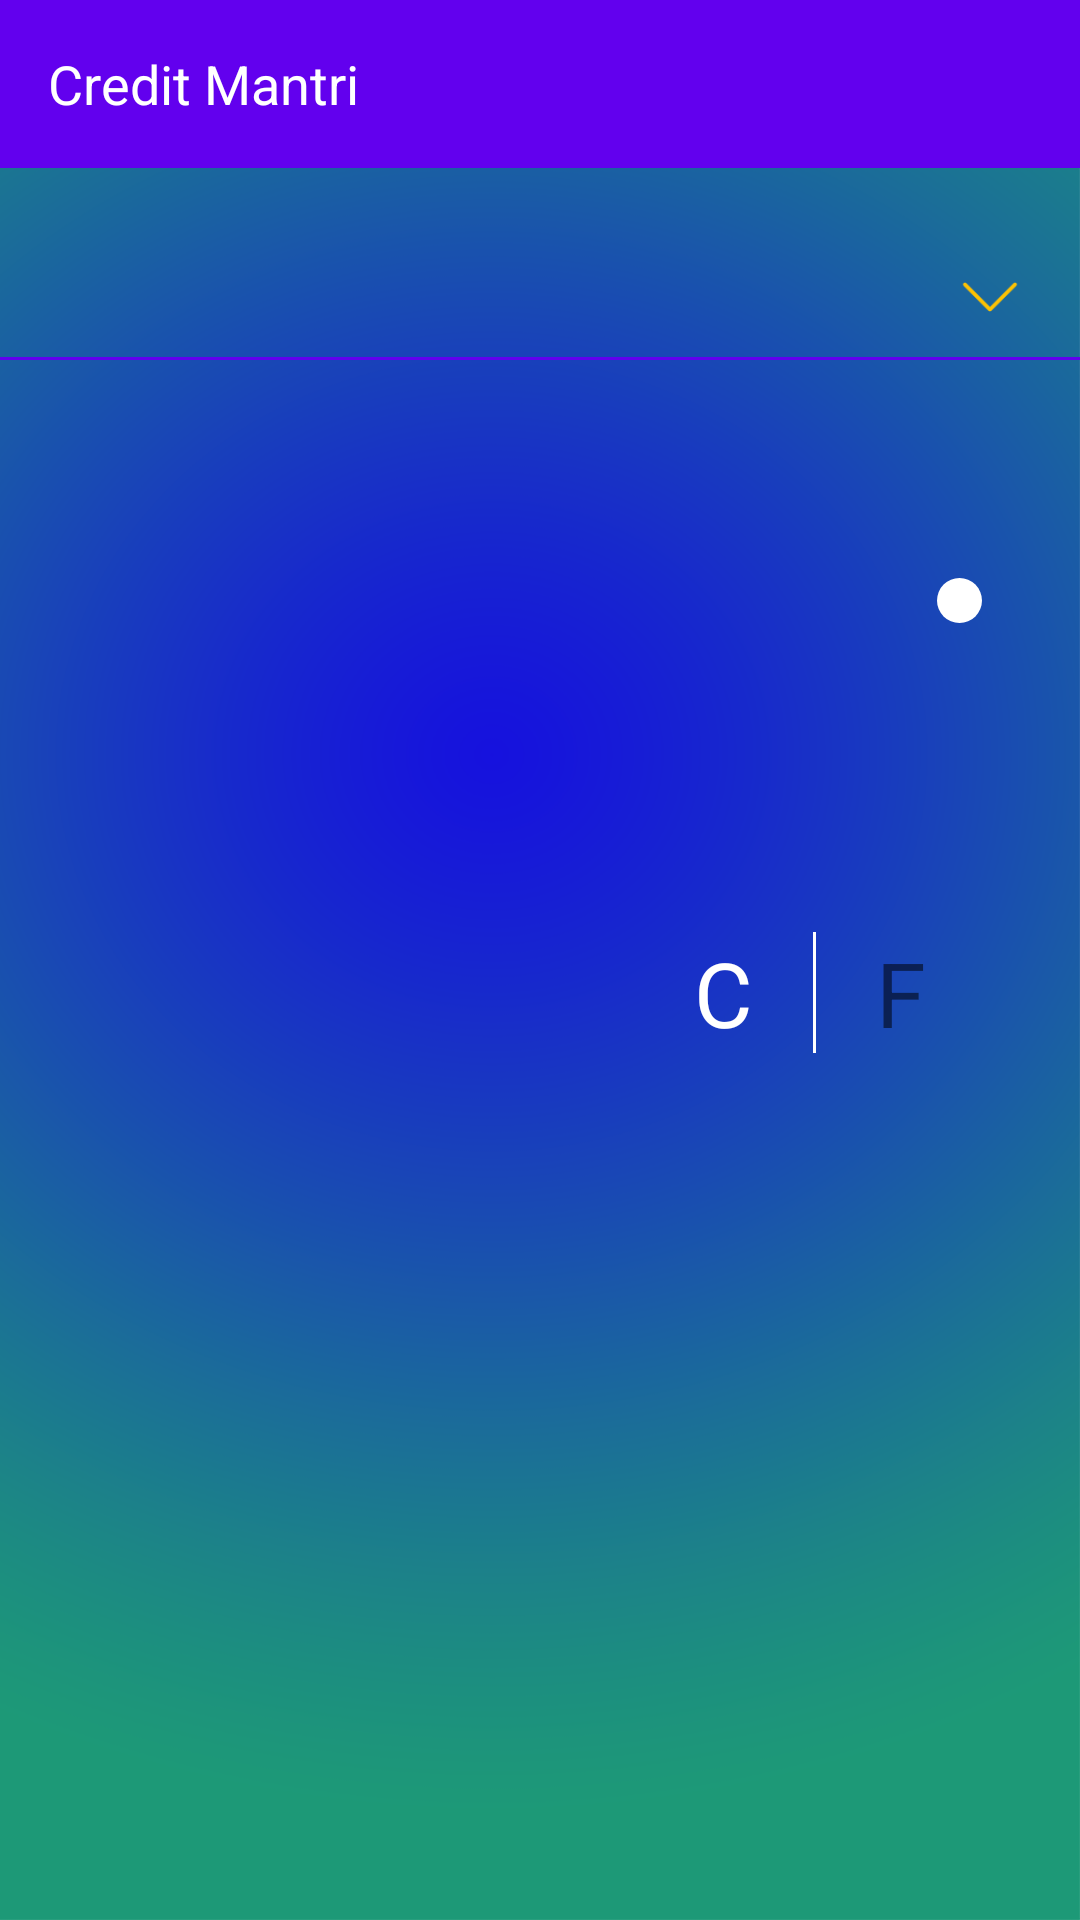

Named icons in this screenshot (1080w x 1920h) and their centers, (x,y):
down arrow: (990,297)
